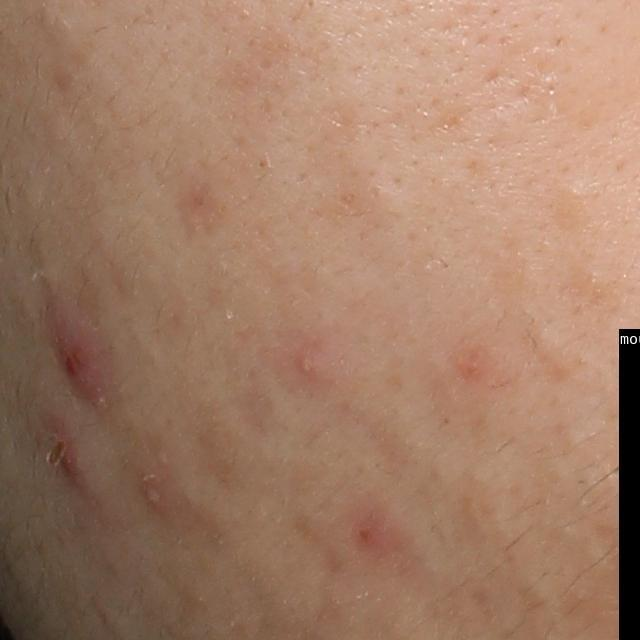papule: (50, 307, 99, 393), (35, 414, 88, 483)
